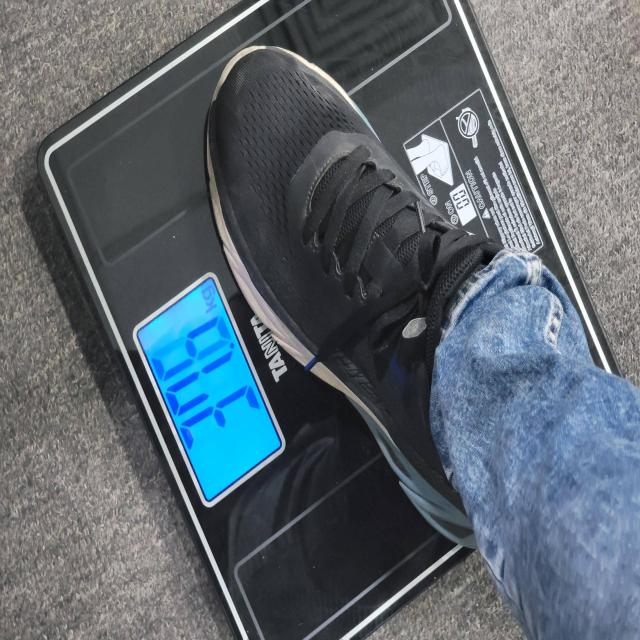ws: (125, 272, 288, 512)
